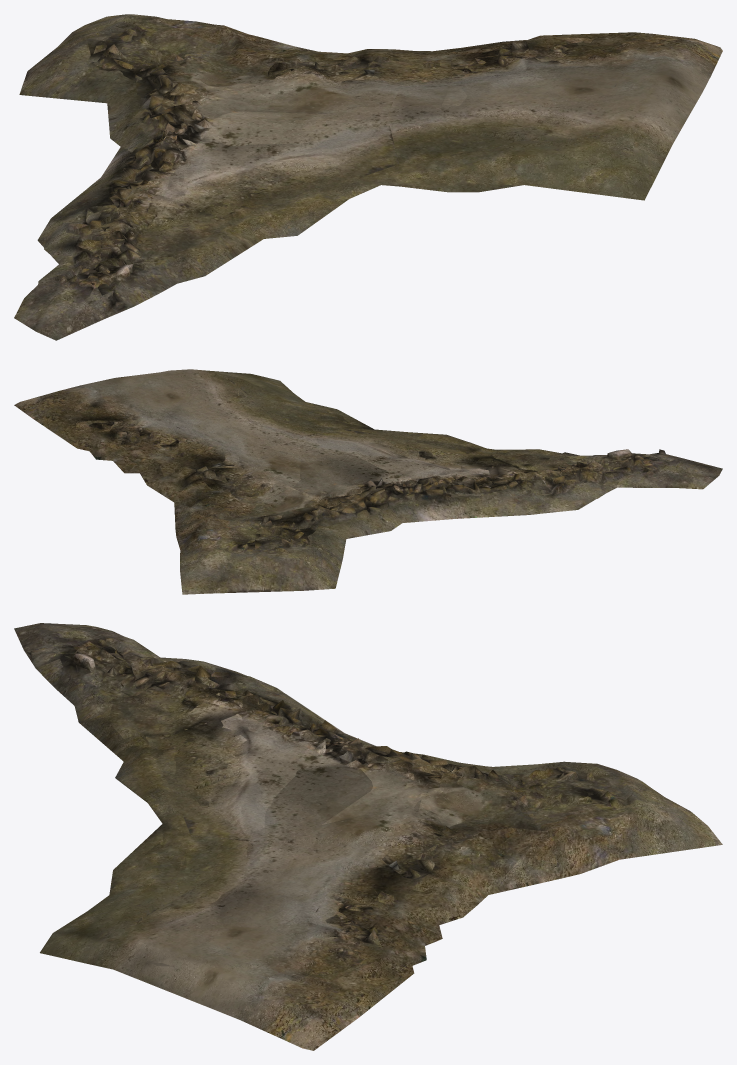
The model's file is coast_rocks_01.glb.
3 views of the same model, one above another, from view 1: azimuth 30°, elevation 25°; view 2: azimuth 150°, elevation 25°; view 3: azimuth 270°, elevation 25° (orthographic). The views are drawn at different scales.
Parts seen in each view (by area): view 1: coast_rocks_01 (×2); view 2: coast_rocks_01 (×2); view 3: coast_rocks_01 (×2).
Boxes of the visible parts, x1,y1,x2,y2 form: coast_rocks_01 (×2): [14, 14, 722, 340]; coast_rocks_01 (×2): [14, 369, 722, 594]; coast_rocks_01 (×2): [14, 623, 722, 1050].
Bounding box in the file's own units: 59.34 × 3.28 × 42.48.
Materials: 1 (1 with a texture image).
